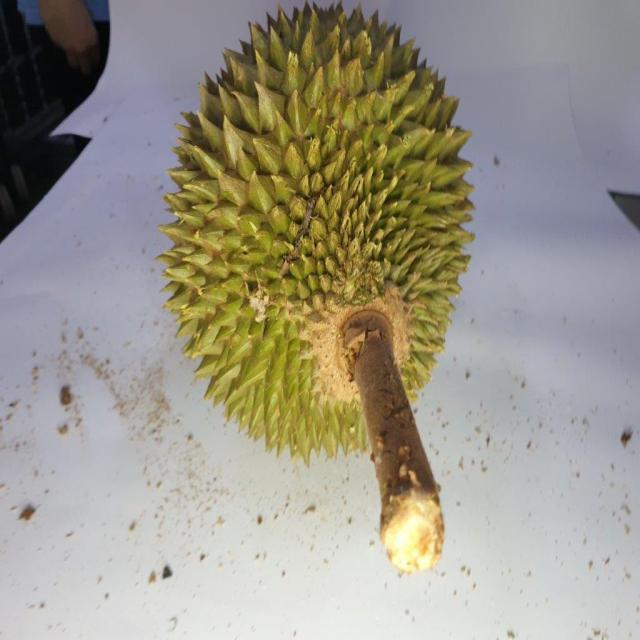immature: (156, 0, 478, 471)
